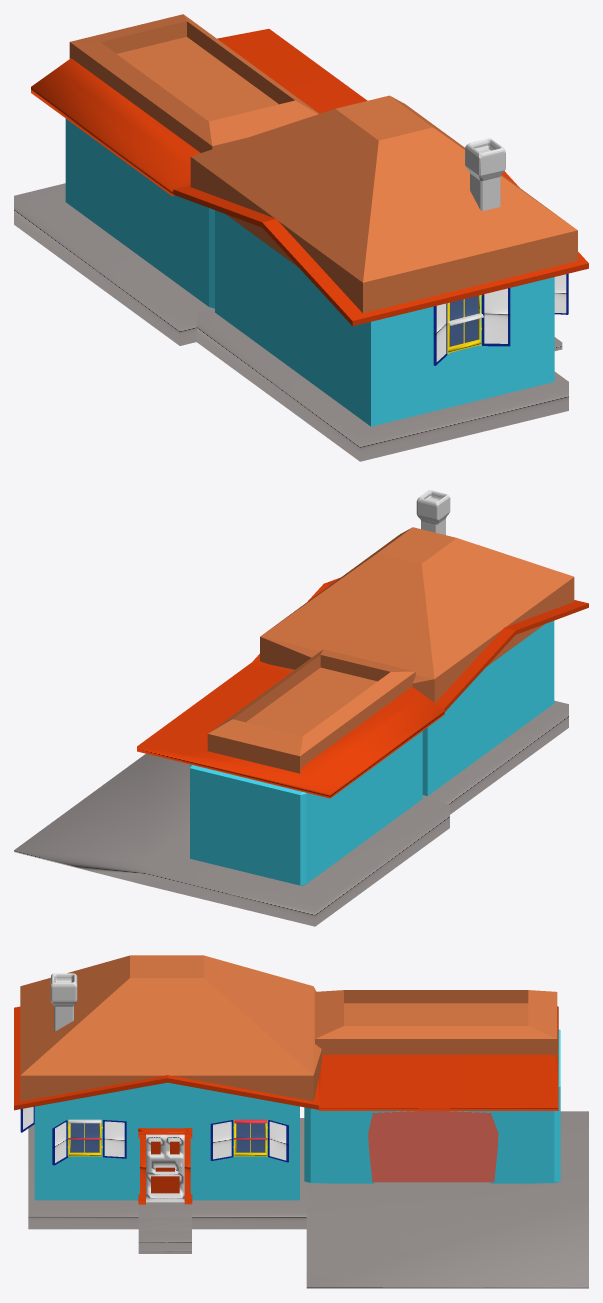
Rendered from haaaai.fbx.
3 renders of one model, top to bottom at view 1: azimuth 30°, elevation 25°; view 2: azimuth 150°, elevation 25°; view 3: azimuth 270°, elevation 25°, orthographic. The views are drawn at different scales.
Visible parts, largest first — view 1: Cube.082; view 2: Cube.082; view 3: Cube.082.
Boxes of the visible parts, x1,y1,x2,y2 form: Cube.082: (14,14,588,461); Cube.082: (14,490,588,926); Cube.082: (14,955,588,1288).
Bounding box in the file's own units: 3633 × 2477 × 5719.
